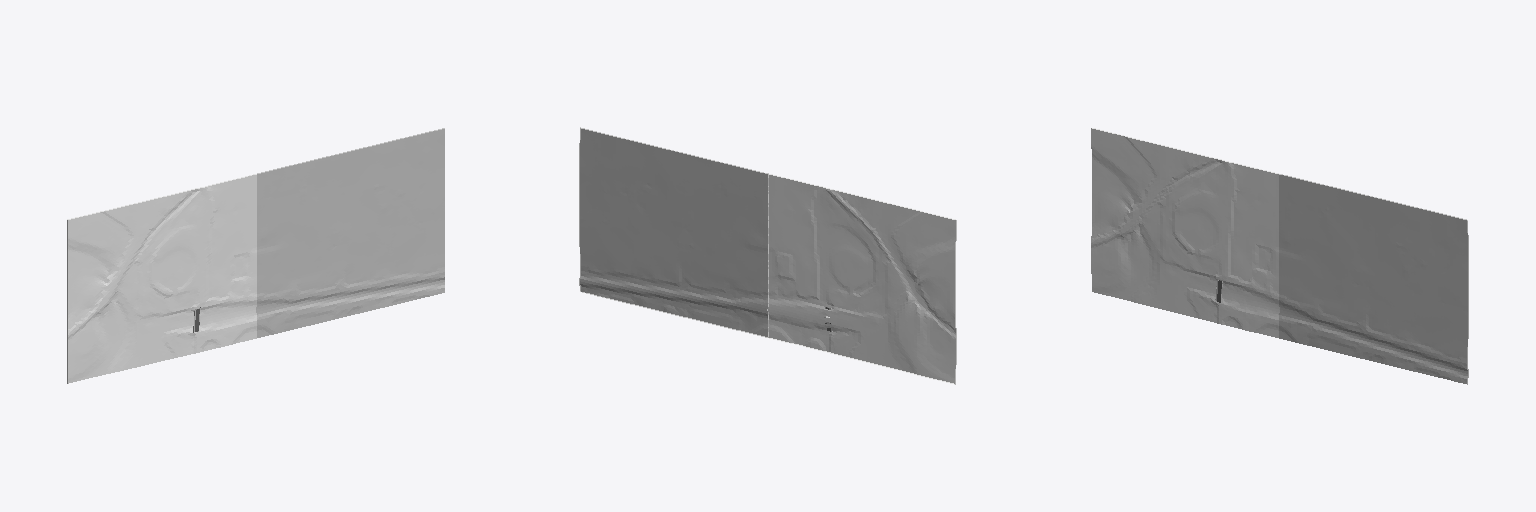
Rendered from novo6.obj.
3 renders of one model, left to right at view 1: azimuth 30°, elevation 25°; view 2: azimuth 150°, elevation 25°; view 3: azimuth 330°, elevation 25°, orthographic.
Parts seen in each view (by area): view 1: novo3_L0_X0_Y0_subtile.osg_TerrainTile_MatrixTransform__Geometr, novo3_L0_X0_Y0_subtile.osg_TerrainTile_MatrixTransform__Geo.000; view 2: novo3_L0_X0_Y0_subtile.osg_TerrainTile_MatrixTransform__Geo.000, novo3_L0_X0_Y0_subtile.osg_TerrainTile_MatrixTransform__Geometr; view 3: novo3_L0_X0_Y0_subtile.osg_TerrainTile_MatrixTransform__Geo.000, novo3_L0_X0_Y0_subtile.osg_TerrainTile_MatrixTransform__Geometr.
Part boxes in pixels (x1,y1,x2,y2): novo3_L0_X0_Y0_subtile.osg_TerrainTile_MatrixTransform__Geometr: (67, 174, 256, 383); novo3_L0_X0_Y0_subtile.osg_TerrainTile_MatrixTransform__Geo.000: (256, 128, 444, 337); novo3_L0_X0_Y0_subtile.osg_TerrainTile_MatrixTransform__Geo.000: (579, 127, 768, 337); novo3_L0_X0_Y0_subtile.osg_TerrainTile_MatrixTransform__Geometr: (767, 174, 956, 384); novo3_L0_X0_Y0_subtile.osg_TerrainTile_MatrixTransform__Geo.000: (1279, 174, 1468, 384); novo3_L0_X0_Y0_subtile.osg_TerrainTile_MatrixTransform__Geometr: (1091, 128, 1279, 337).
Size of the model in its own units: 1341 by 558 by 14.39.